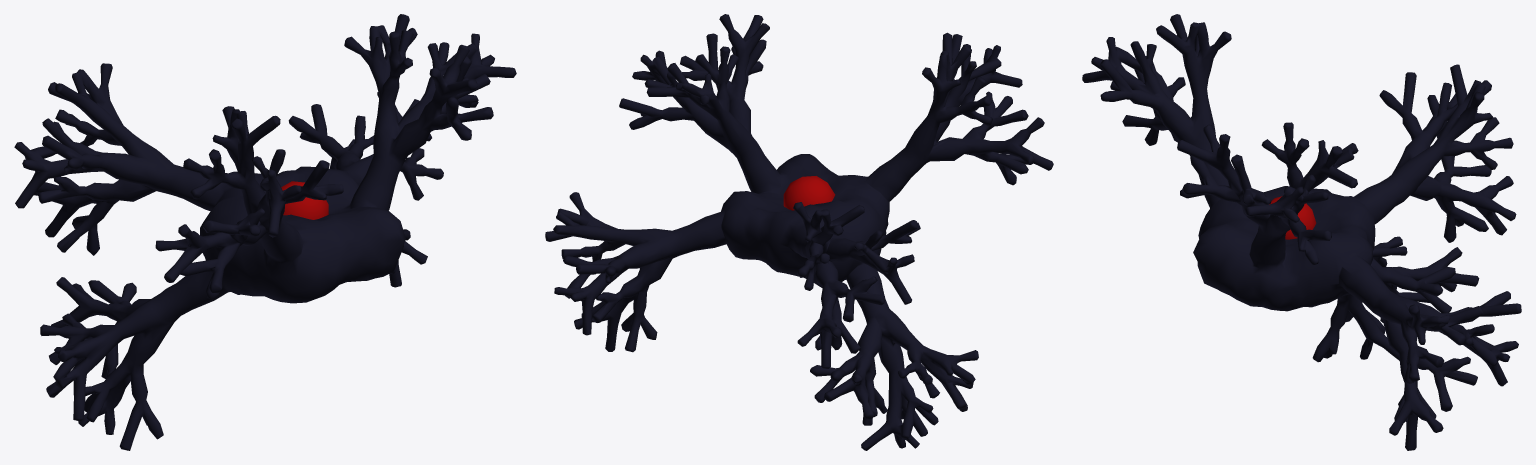
File: start_end.fbx
3 views of the same model, side by side, from view 1: azimuth 30°, elevation 25°; view 2: azimuth 150°, elevation 25°; view 3: azimuth 270°, elevation 25° (orthographic). The views are drawn at different scales.
Parts seen in each view (by area): view 1: material3; view 2: material3; view 3: material3.
Part boxes in pixels (left/top/right/bottom): material3: left=14, top=14, right=516, bottom=450; material3: left=545, top=14, right=1053, bottom=450; material3: left=1082, top=14, right=1521, bottom=450.
Size of the model in its own units: 9.31 by 7.97 by 8.82.
